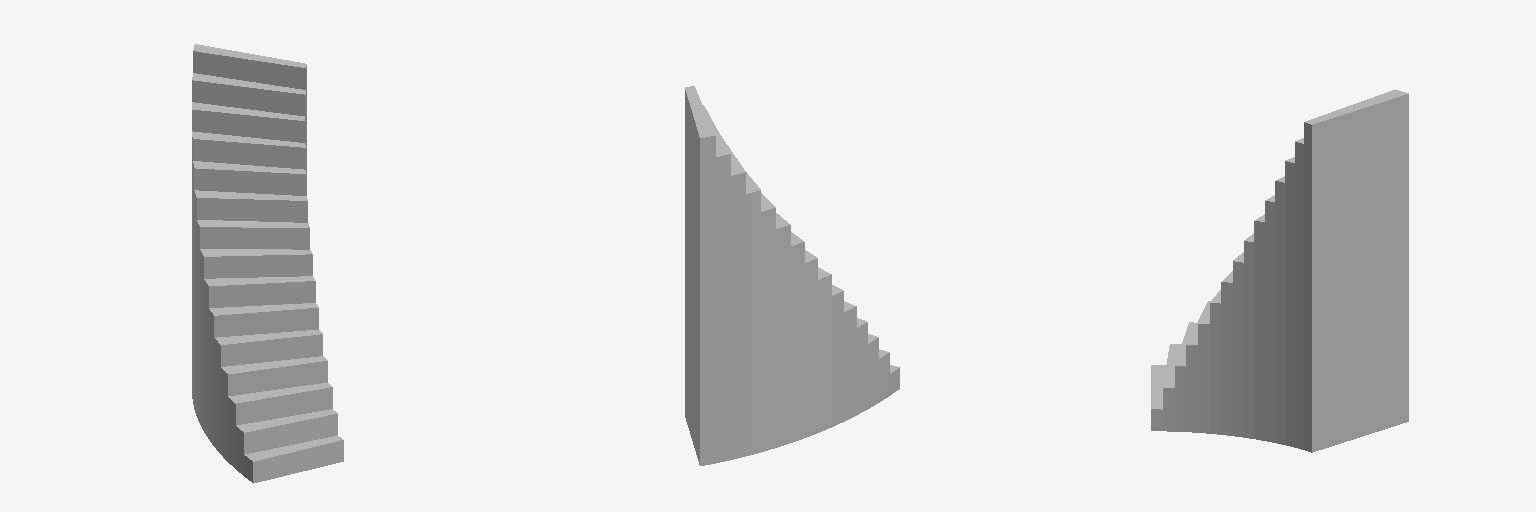
Rendered from Stairs (6).obj.
3 views of the same model, side by side, from view 1: azimuth 30°, elevation 25°; view 2: azimuth 150°, elevation 25°; view 3: azimuth 270°, elevation 25° (orthographic).
Parts seen in each view (by area): view 1: Stairs (6); view 2: Stairs (6); view 3: Stairs (6).
Boxes of the visible parts, x1=… form: Stairs (6): x1=192, y1=44, x2=343, y2=483; Stairs (6): x1=685, y1=86, x2=899, y2=465; Stairs (6): x1=1151, y1=89, x2=1408, y2=452.
Bounding box in the file's own units: 3 × 7 × 5.